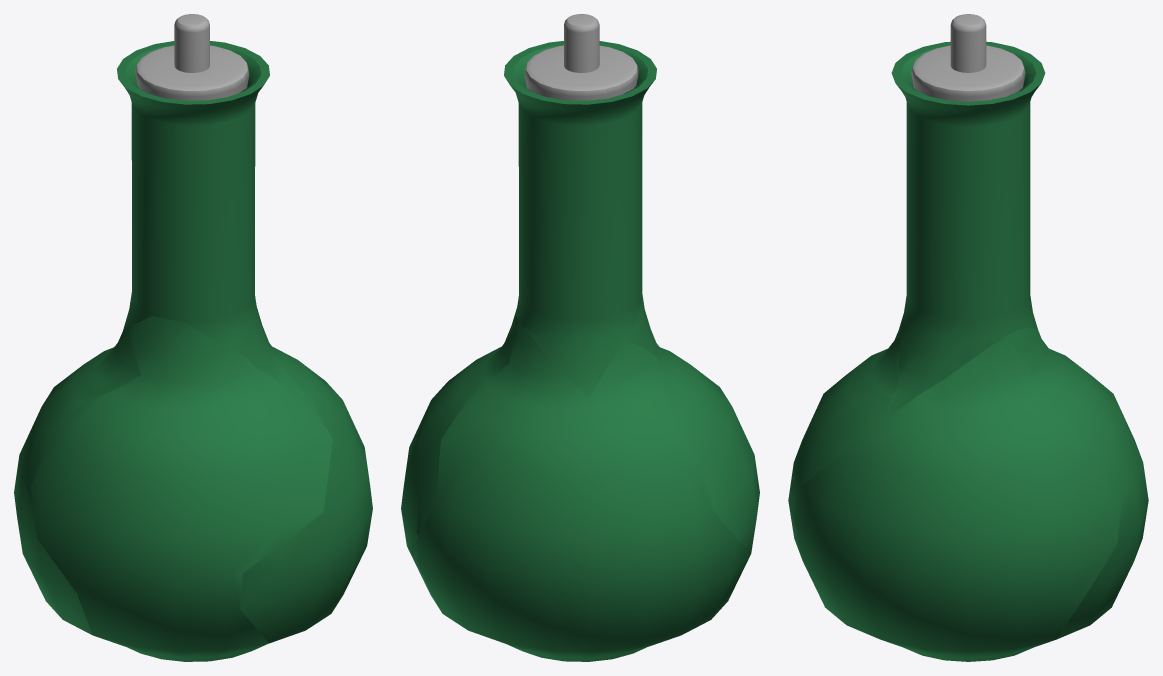
Rendered from bottiglia_rotta.fbx.
3 renders of one model, left to right at view 1: azimuth 30°, elevation 25°; view 2: azimuth 150°, elevation 25°; view 3: azimuth 270°, elevation 25°, orthographic.
Visible parts, largest first — view 1: polySurface64, polySurface54, polySurface60, polySurface59, pCylinder9; view 2: polySurface59, polySurface54, polySurface64, polySurface60, pCylinder9; view 3: polySurface60, polySurface54, polySurface59, polySurface64, pCylinder9.
Boxes of the visible parts, box(x1,y1,x2,y2) form: polySurface64: box(30, 316, 332, 661); polySurface54: box(116, 41, 307, 397); polySurface60: box(235, 344, 372, 656); polySurface59: box(14, 326, 141, 634); pCylinder9: box(135, 14, 249, 100); polySurface59: box(413, 316, 750, 661); polySurface54: box(504, 41, 656, 396); polySurface64: box(625, 294, 759, 553); polySurface60: box(401, 314, 515, 587); pCylinder9: box(524, 14, 638, 100); polySurface60: box(788, 336, 1122, 661); polySurface54: box(885, 41, 1045, 419); polySurface59: box(1007, 327, 1148, 653); polySurface64: box(791, 323, 900, 485); pCylinder9: box(911, 14, 1025, 101).
Bounding box in the file's own units: 0.2063 × 0.3845 × 0.2063.
